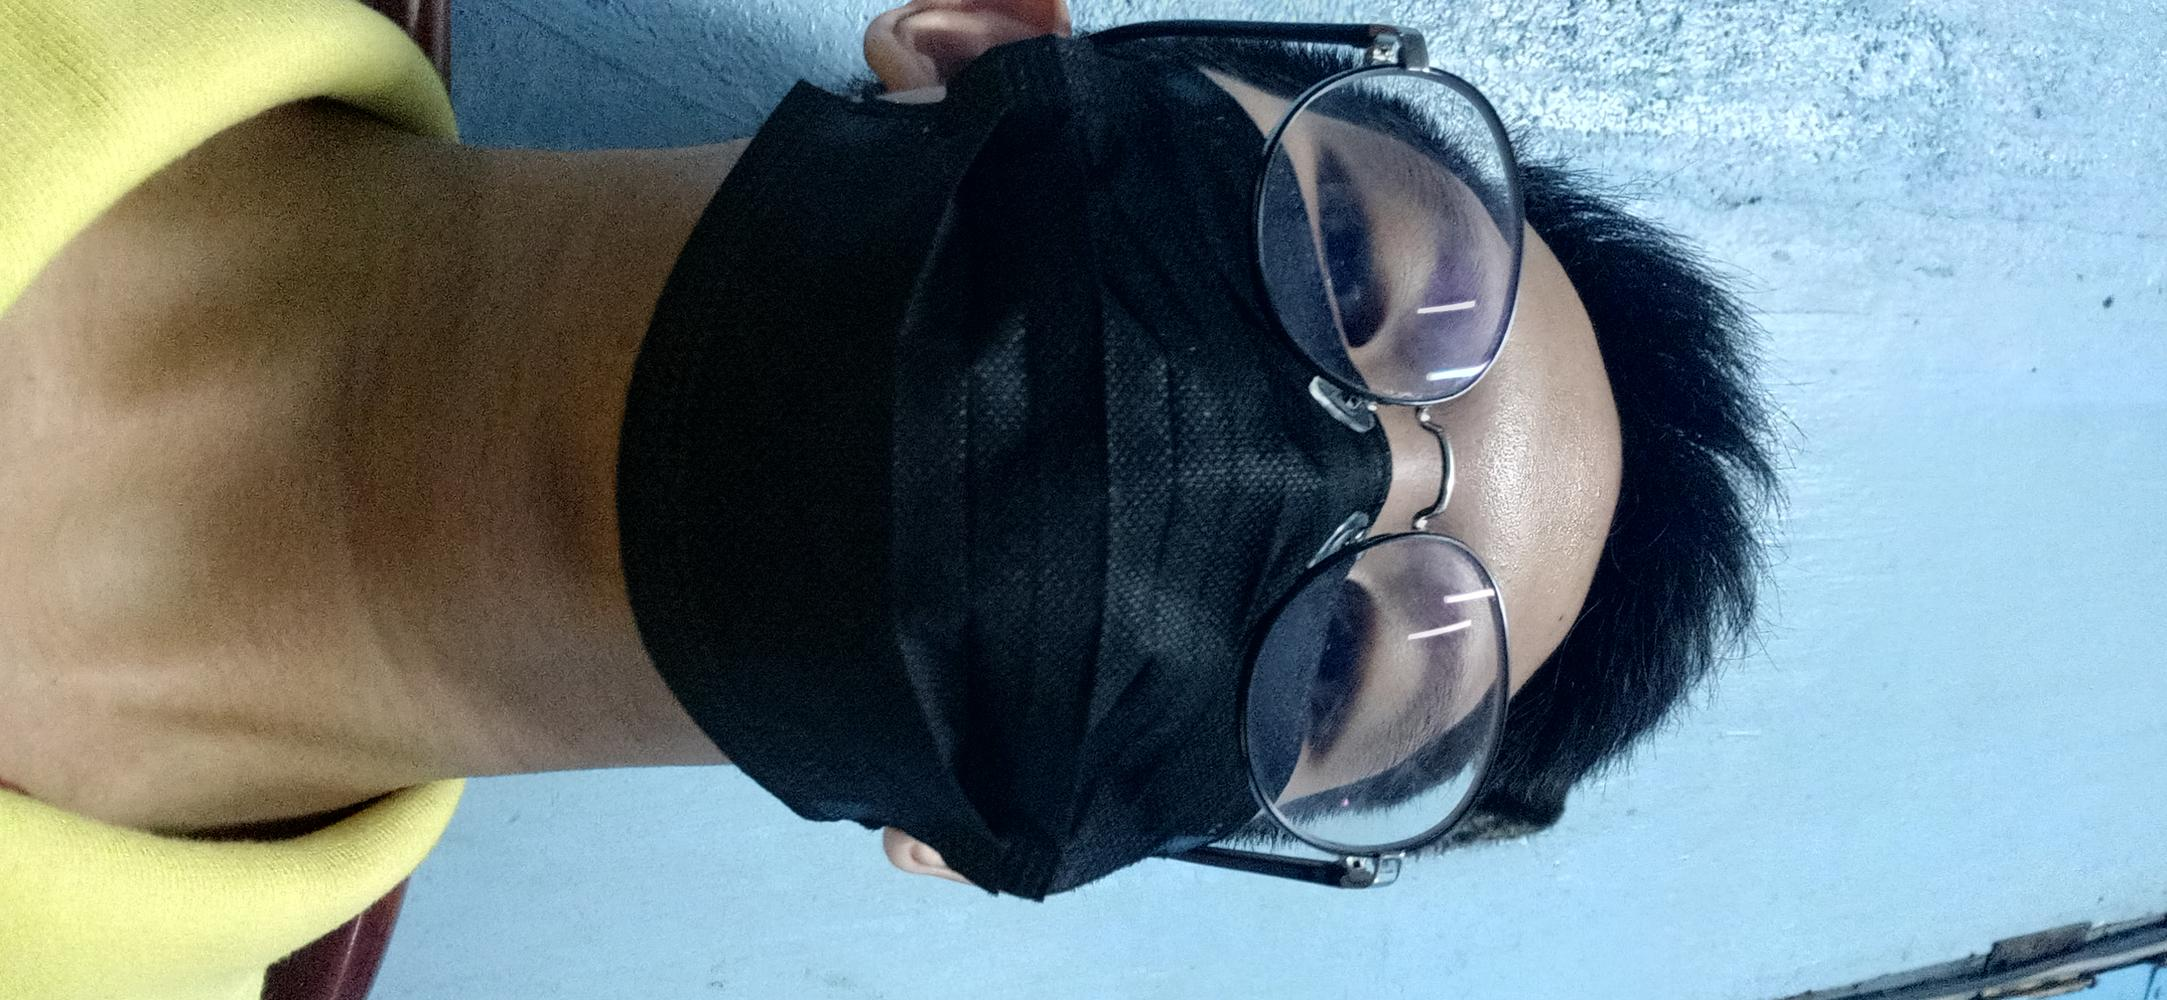Face Mask: (622, 72, 1328, 898)
Undefined Object: (1248, 27, 1512, 878)
